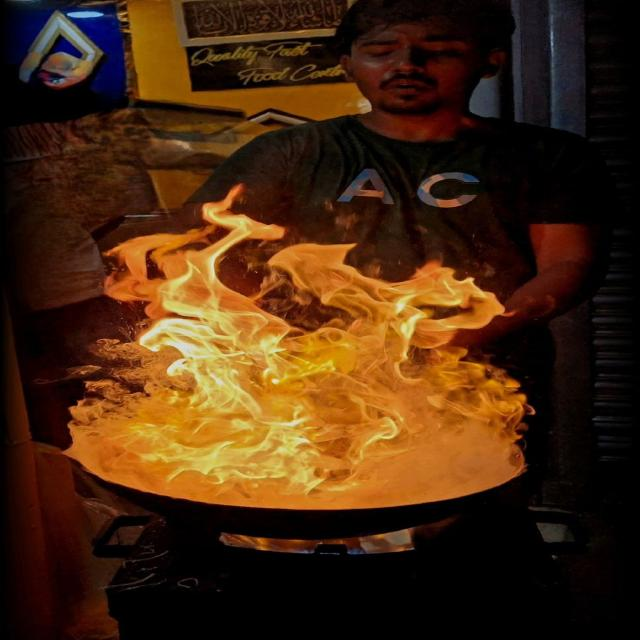fire: (65, 182, 531, 510), (218, 531, 414, 553)
